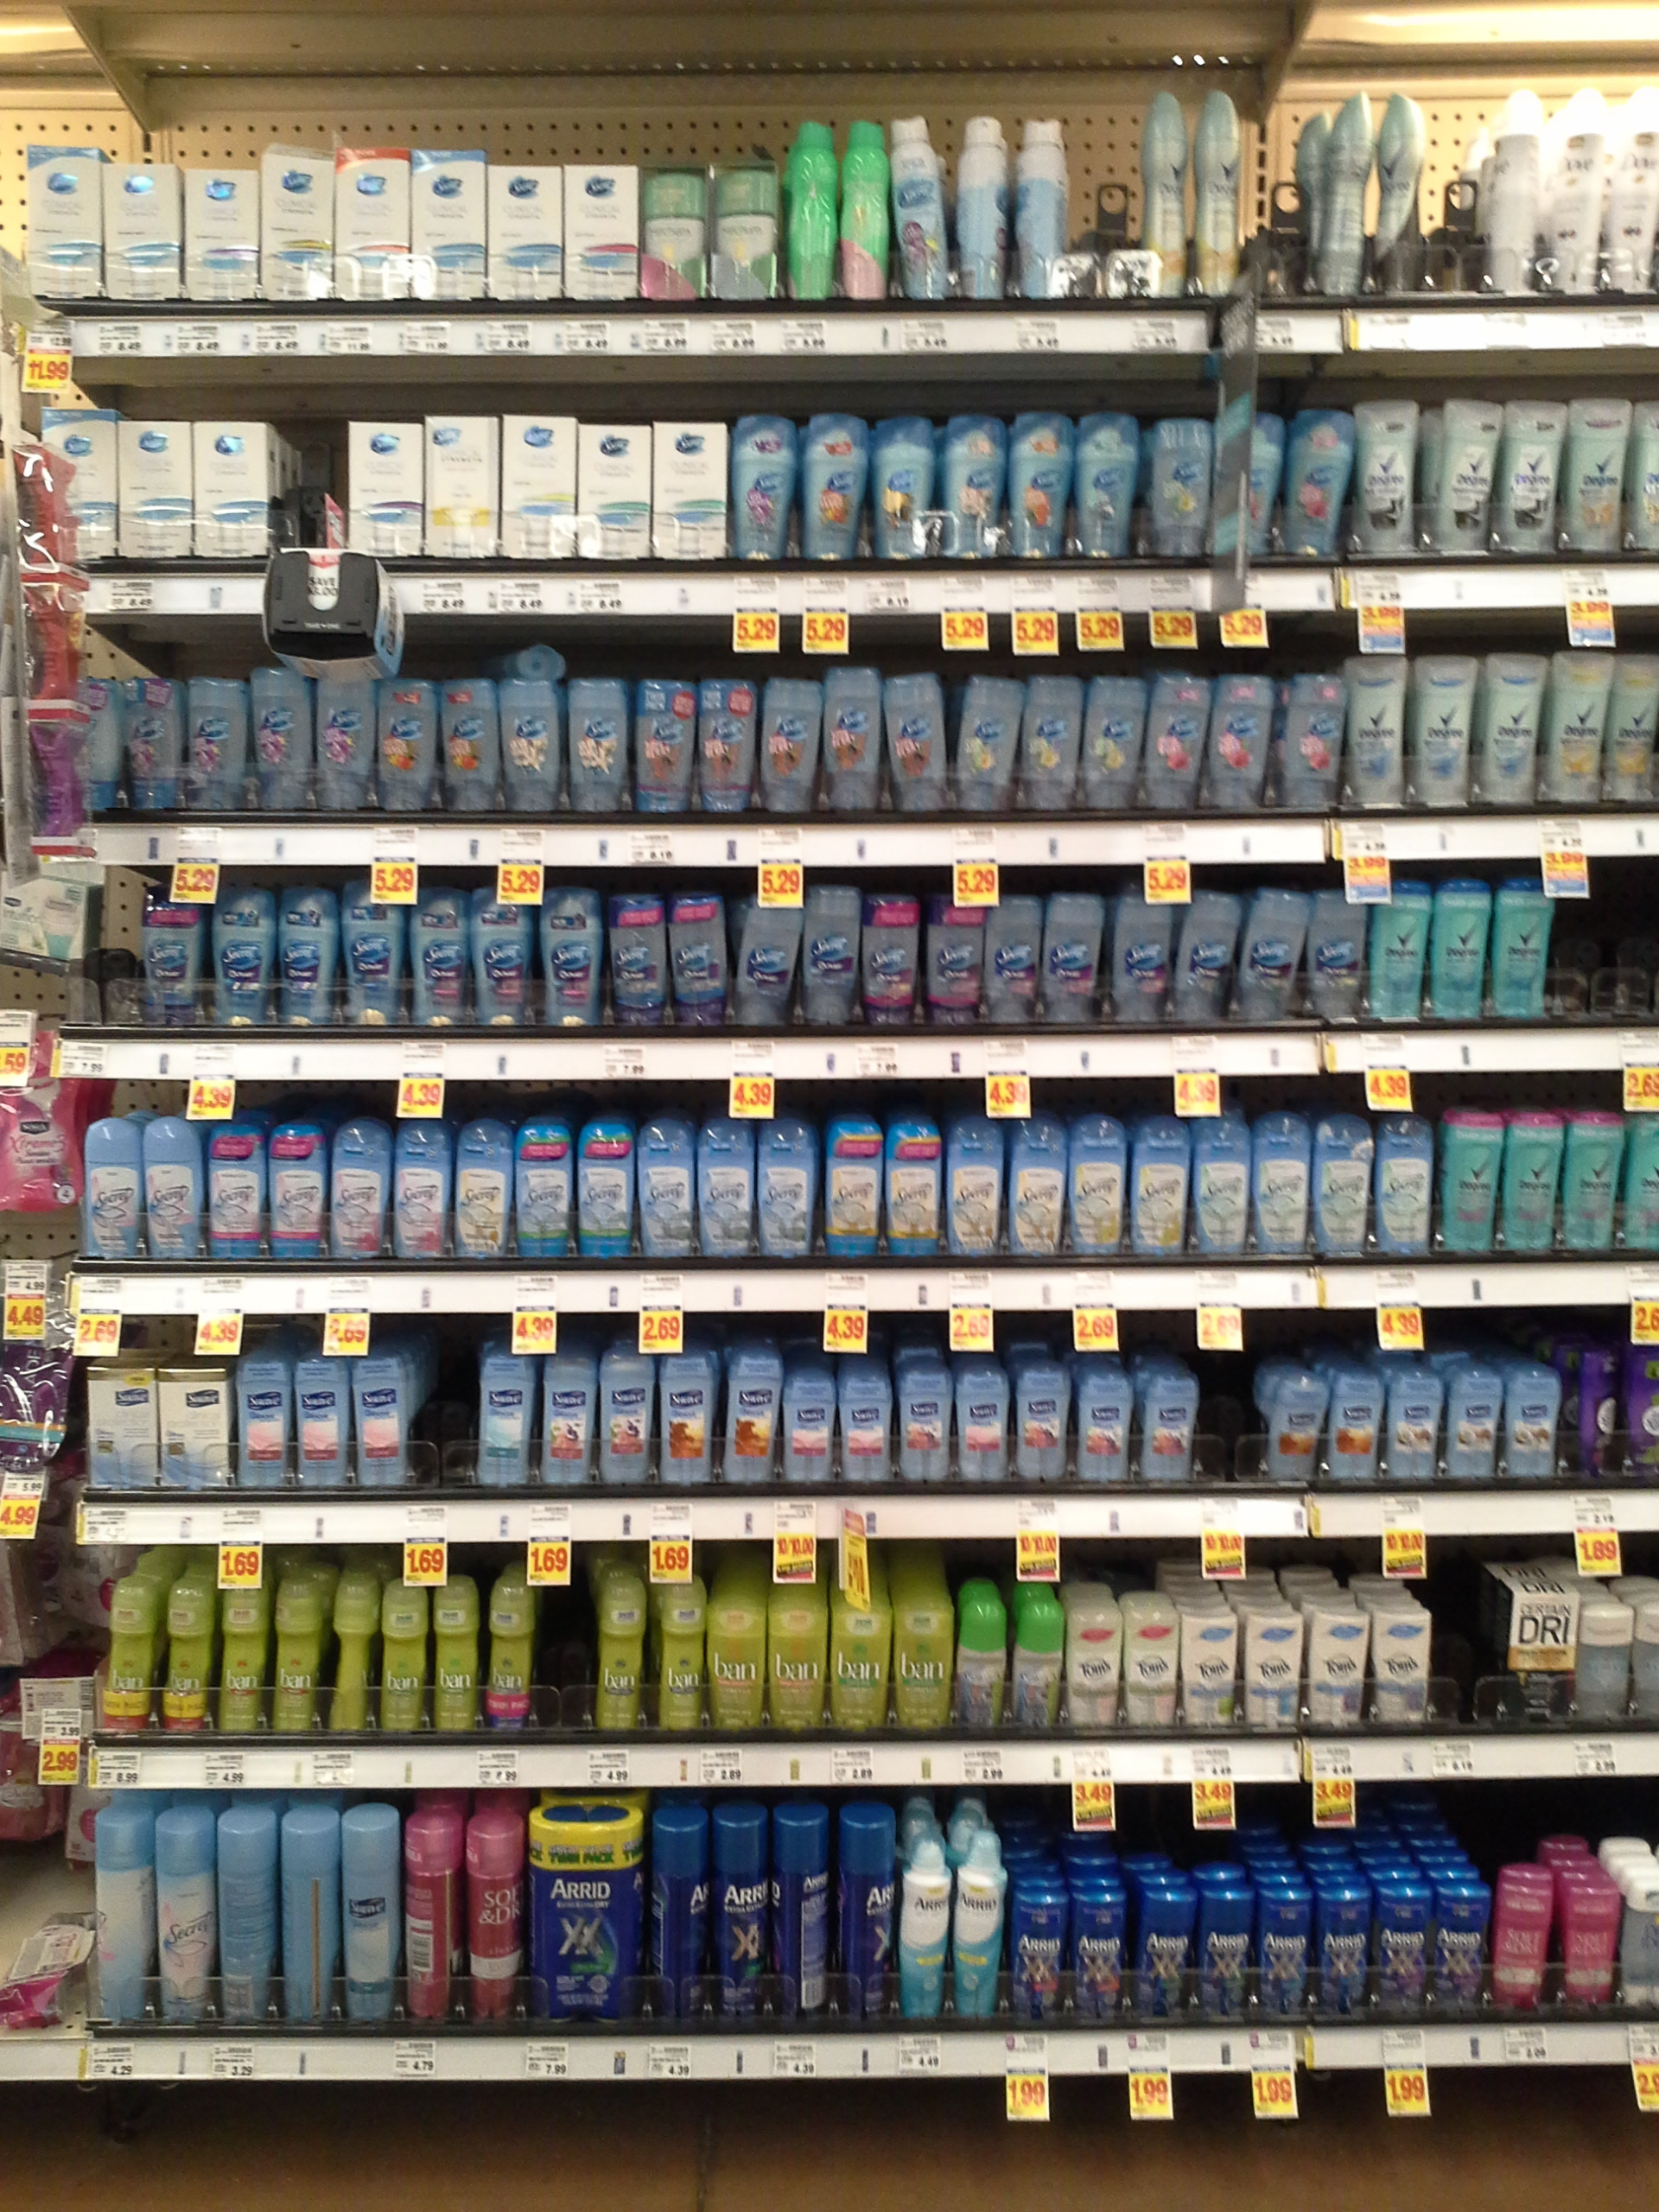Out-of-stock: (410, 1312, 479, 1491)
